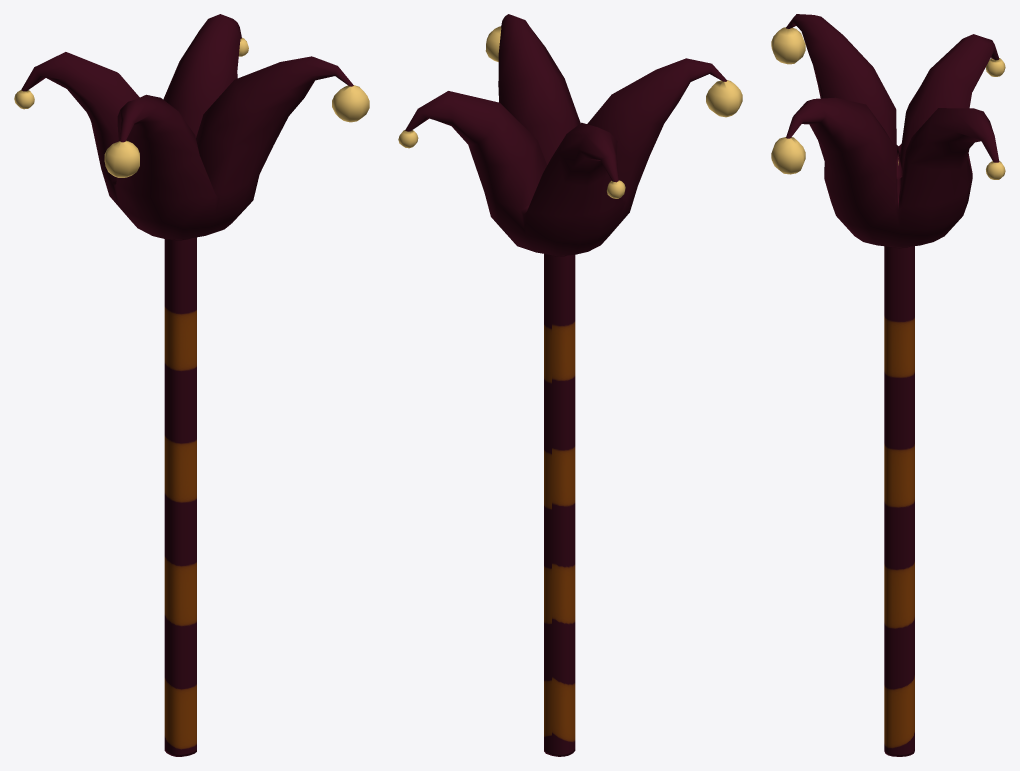
The model's file is Scepter.fbx.
3 views of the same model, side by side, from view 1: azimuth 30°, elevation 25°; view 2: azimuth 150°, elevation 25°; view 3: azimuth 270°, elevation 25° (orthographic). The views are drawn at different scales.
Visible parts, largest first — view 1: pCube2; view 2: pCube2; view 3: pCube2.
Part boxes in pixels (x1,y1,x2,y2): pCube2: (14,14,369,756); pCube2: (398,14,742,756); pCube2: (771,14,1005,756).
Size of the model in its own units: 1.41 by 3.63 by 1.11.
Materials: 1 (1 with a texture image).
